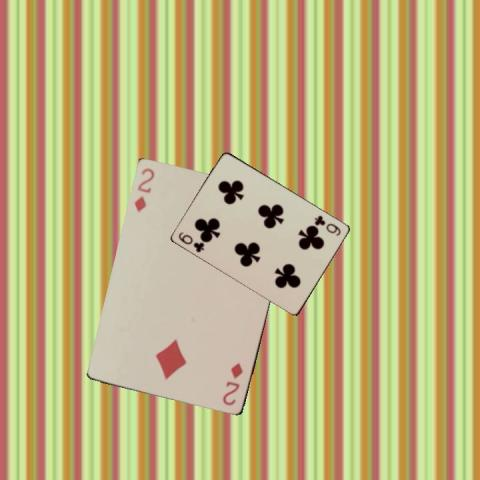2d: (131, 165, 156, 214), (220, 361, 245, 407)
6c: (312, 212, 343, 237), (175, 229, 206, 254)
